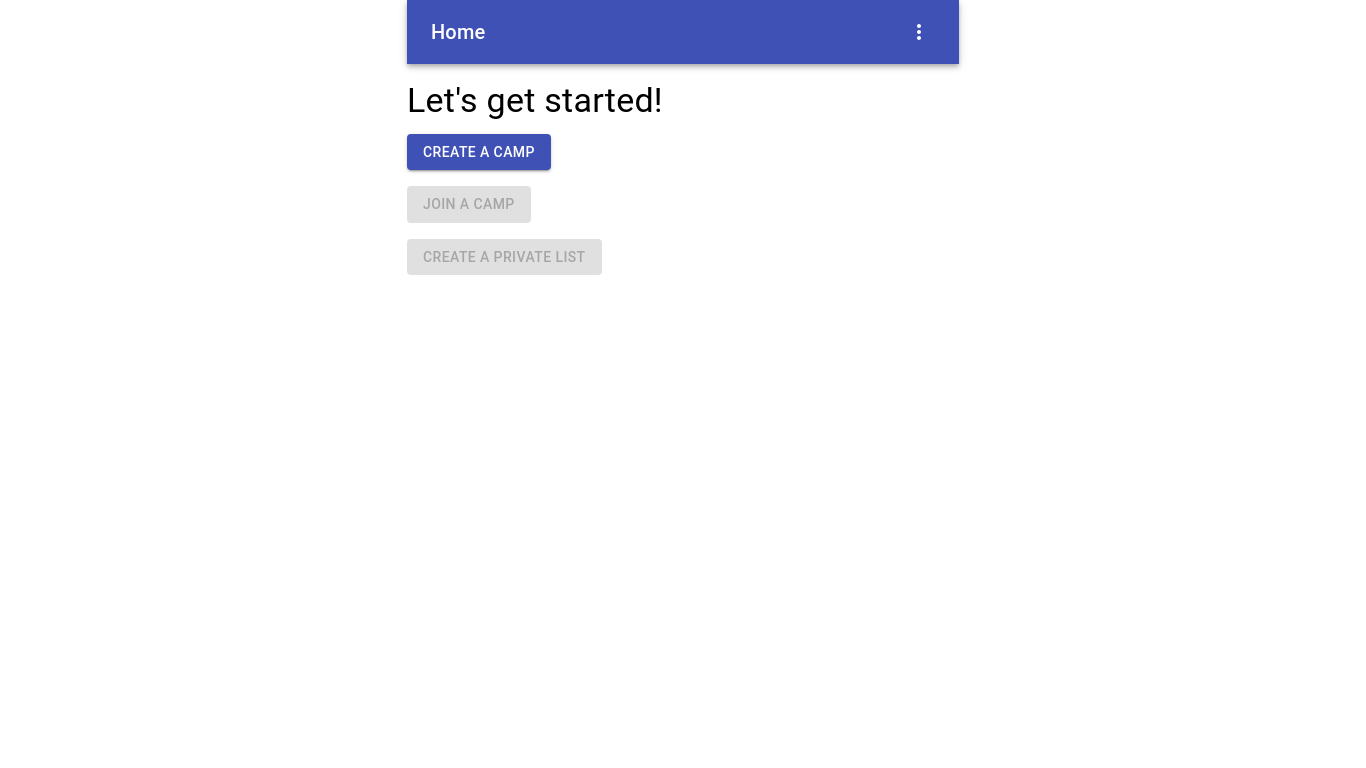
Scenario: Home Page › renders login page
Click the button with test id "menu-open". click: (919, 32)
box: [887,14,951,50]
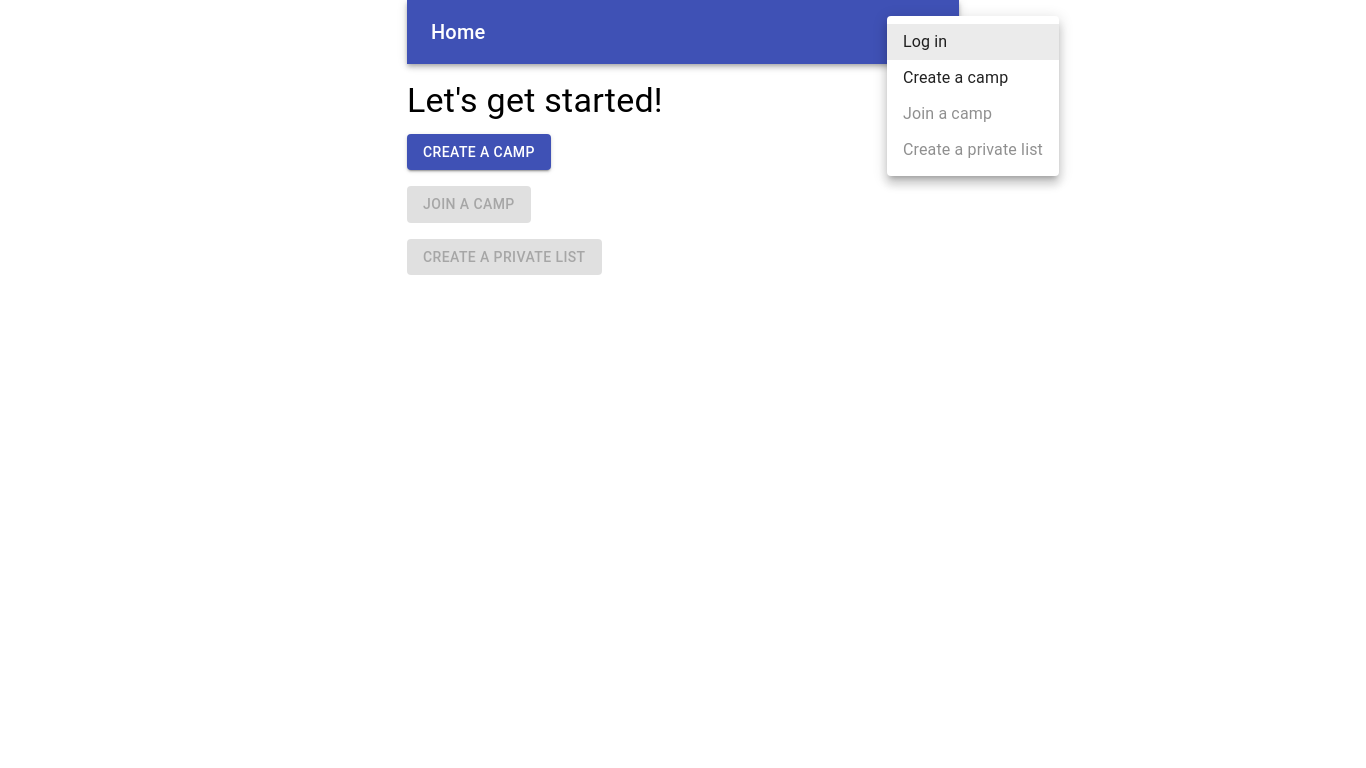
Click the menu item with test id "open-login". click: (973, 42)
box: [887,24,1059,60]
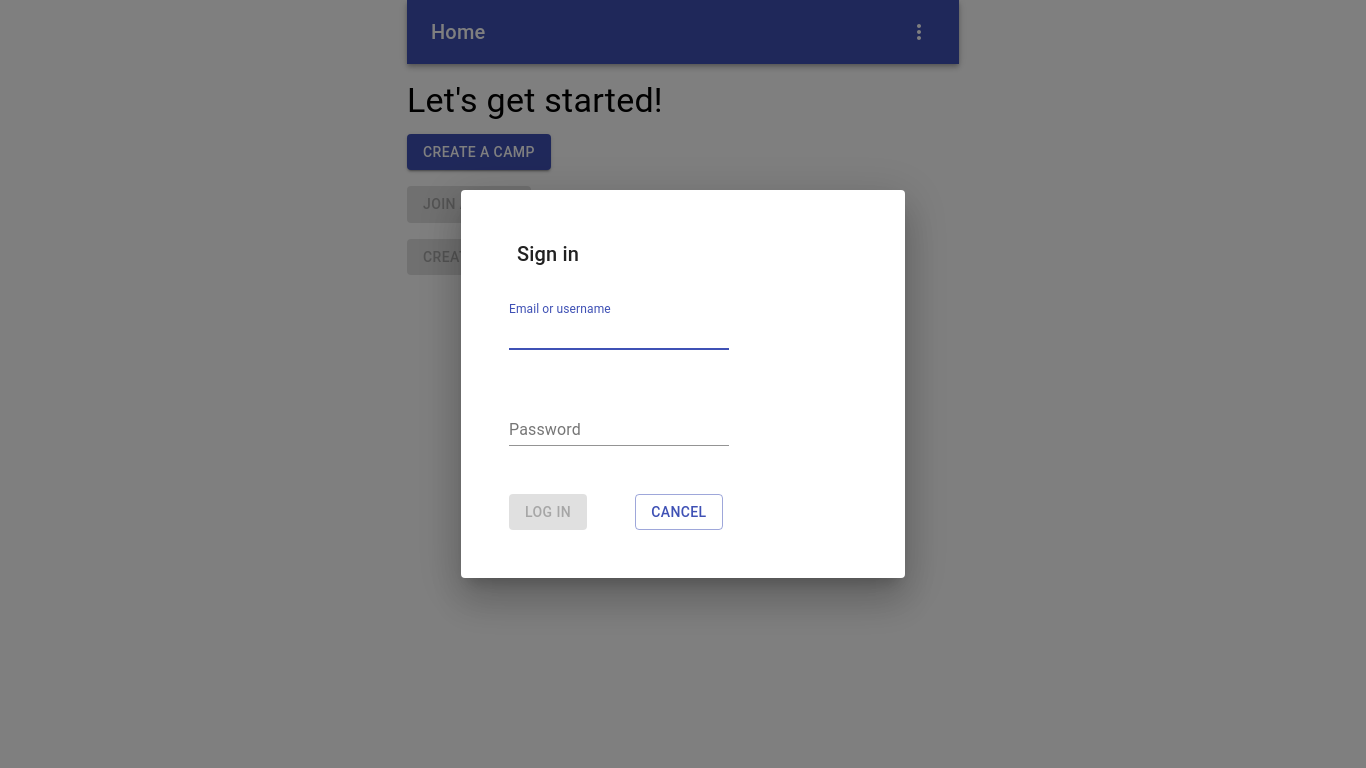
Result: the element with test id "email-box" is shown at [509,302,729,350]
